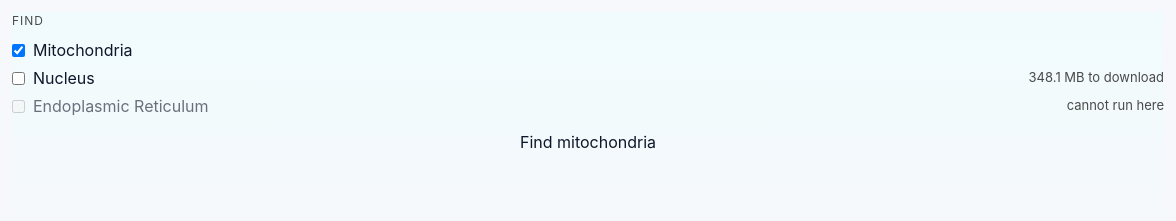
Test: choosing what to find › lets an uninstalled model be ticked, and says what it costs
This screenshot has width=1176, height=221.
Click the checkbox labelled "Nucleus 348.1 MB to download": [18, 78] box [12, 72, 25, 84]
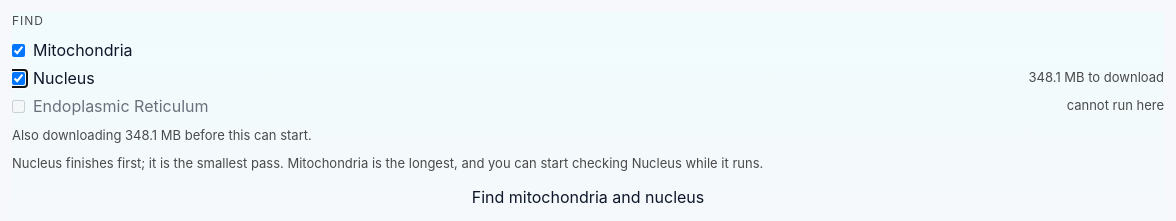
Expected: the text "348.1 MB to download" is shown, [1029, 68, 1164, 88]
Now the text "Also downloading 348.1 MB before this can start." is shown, box [12, 127, 312, 143]
